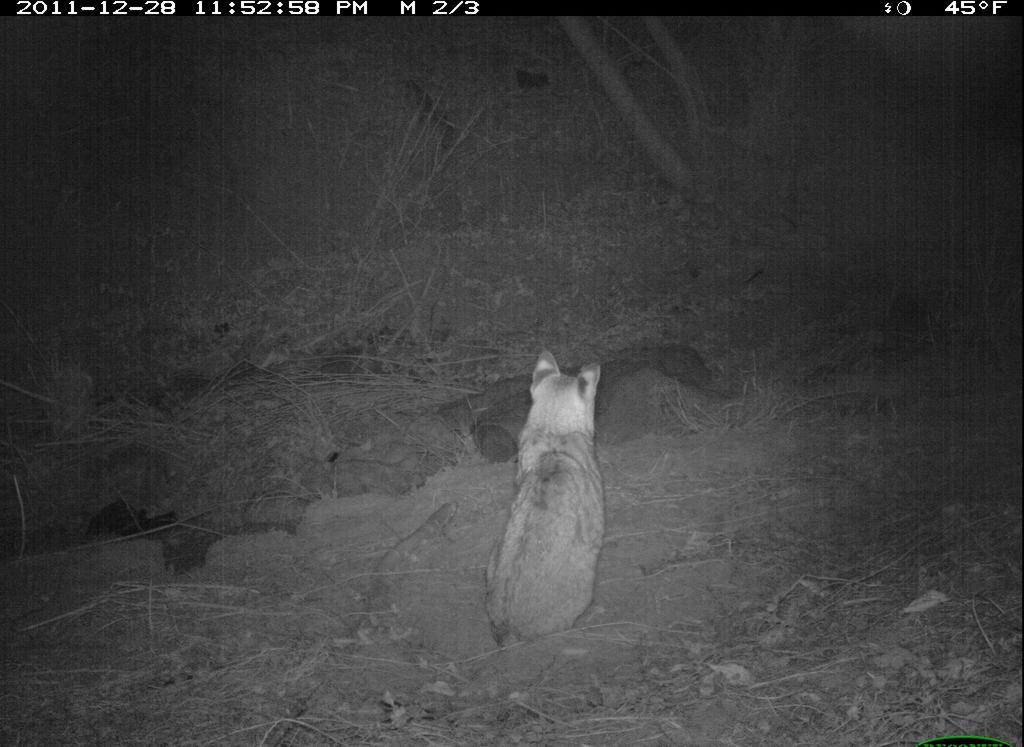bobcat: (475, 328, 638, 680)
